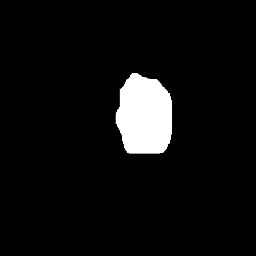mass: (117, 73, 171, 159)
